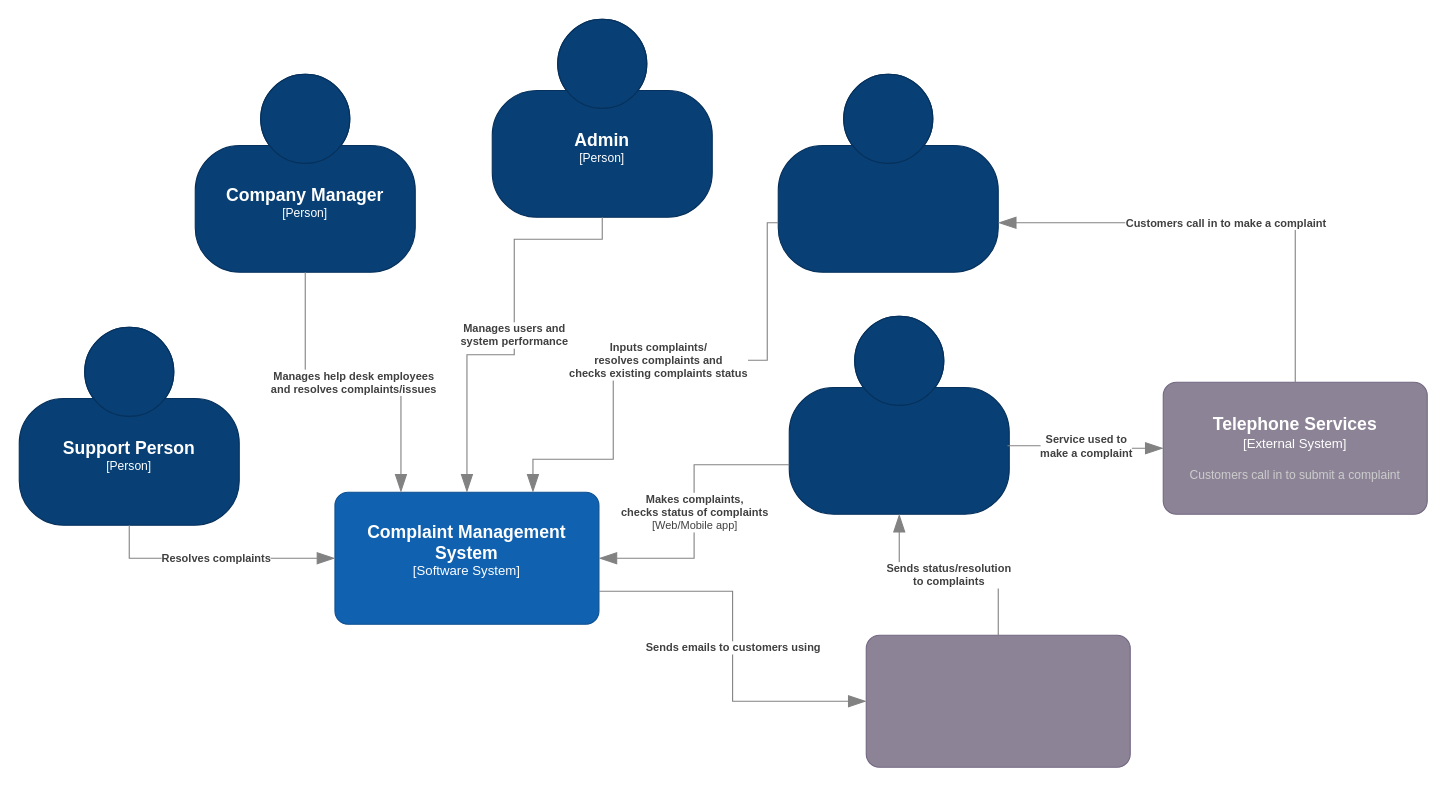
Some shapes in this 1447 by 787 pixel diagram are drawn without their labels. Each missing label, with the box of its shape:
Customer [Person]: (788, 315, 1009, 514)
Email system [External System] Sends email status of complaint and resolution: (865, 634, 1130, 767)
Helpdesk agent [Person]: (777, 73, 998, 272)
